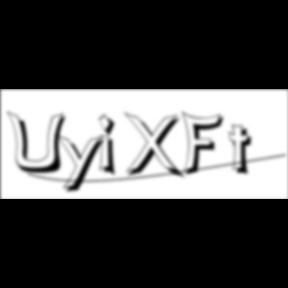F: (181, 110, 229, 178)
U: (6, 110, 72, 176)
X: (124, 112, 188, 182)
i: (99, 112, 123, 180)
t: (228, 124, 260, 179)
y: (56, 132, 110, 196)
